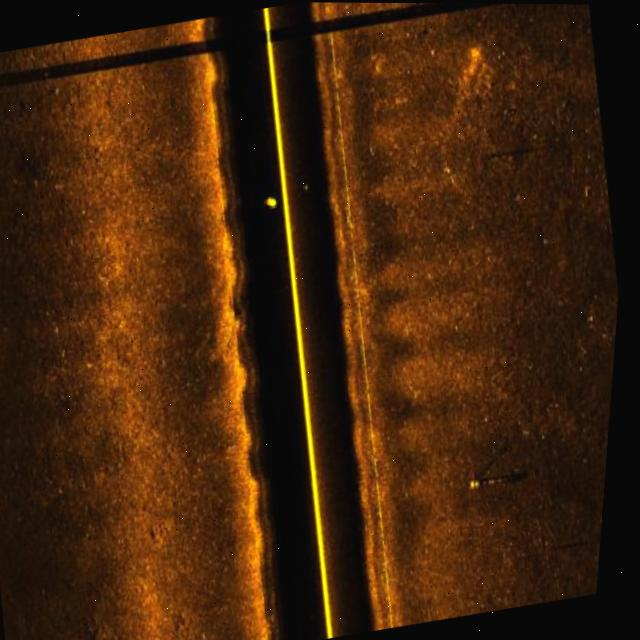mine: (465, 468, 528, 495)
